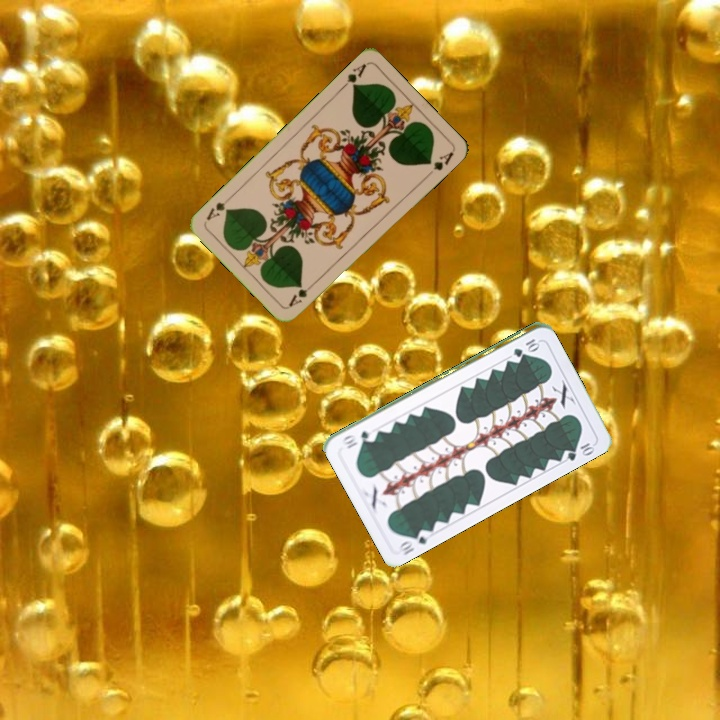G10: (396, 525, 434, 558), (509, 335, 542, 358)
GA: (337, 59, 369, 92), (285, 278, 318, 309)
